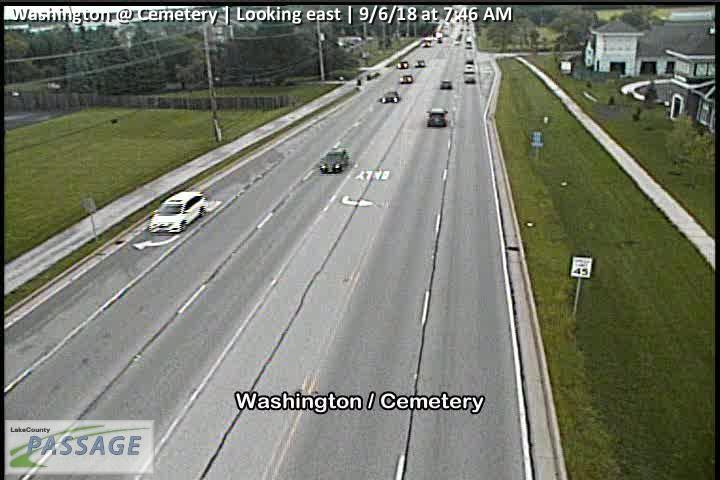SUV: (147, 190, 208, 234), (318, 147, 349, 175), (426, 107, 449, 129), (421, 35, 433, 49), (439, 79, 452, 90), (399, 74, 414, 83), (463, 76, 477, 85), (463, 63, 474, 73)
Sedan: (380, 91, 399, 104), (397, 60, 409, 69), (414, 61, 425, 67), (464, 58, 475, 64)
